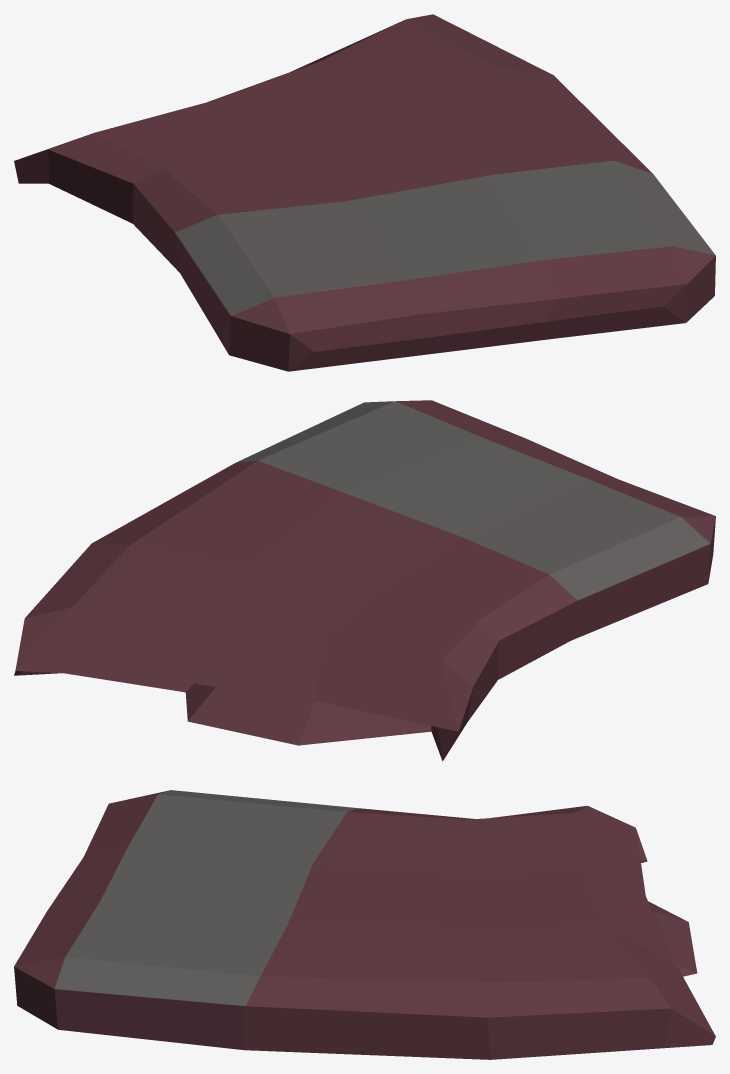
File: construction-cement-bag-empty.glb
3 views of the same model, one above another, from view 1: azimuth 30°, elevation 25°; view 2: azimuth 150°, elevation 25°; view 3: azimuth 270°, elevation 25° (orthographic). The views are drawn at different scales.
Visible parts, largest first — view 1: bag-cement-empty; view 2: bag-cement-empty; view 3: bag-cement-empty.
Part boxes in pixels (box(x1,y1,x2,y2)): bag-cement-empty: box(14, 14, 715, 371); bag-cement-empty: box(14, 400, 715, 761); bag-cement-empty: box(14, 790, 715, 1059).
Size of the model in its own units: 0.5017 by 0.0742 by 0.6477.
